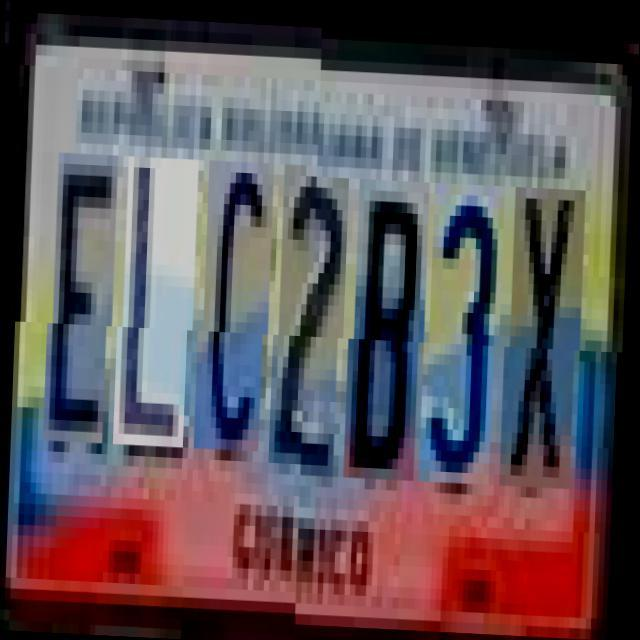2: (277, 172, 350, 473)
3: (428, 178, 507, 480)
B: (352, 176, 431, 477)
C: (202, 168, 275, 460)
E: (52, 163, 118, 453)
L: (122, 166, 200, 457)
X: (508, 182, 587, 482)
